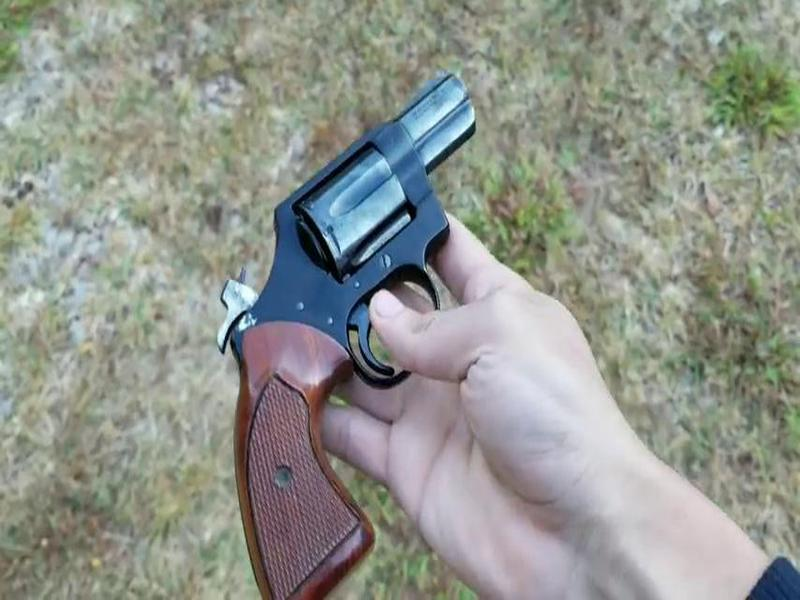Revolver: (222, 60, 521, 594)
